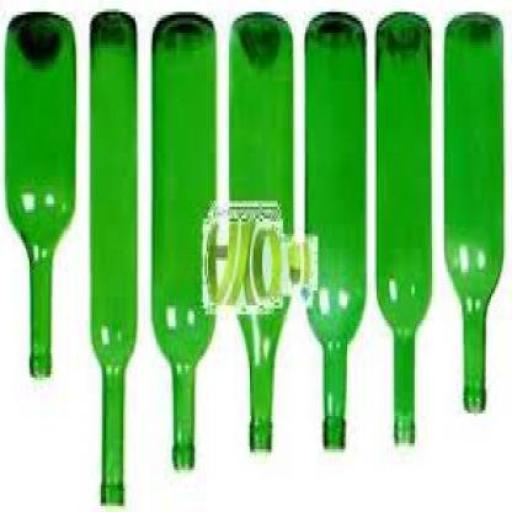glass: (153, 16, 219, 474), (232, 18, 296, 455), (307, 16, 370, 452), (8, 15, 76, 380), (375, 18, 432, 450), (90, 15, 139, 511), (446, 18, 503, 416)
